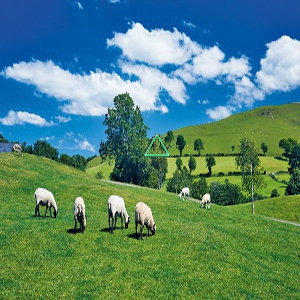triangle: (141, 132, 172, 158)
